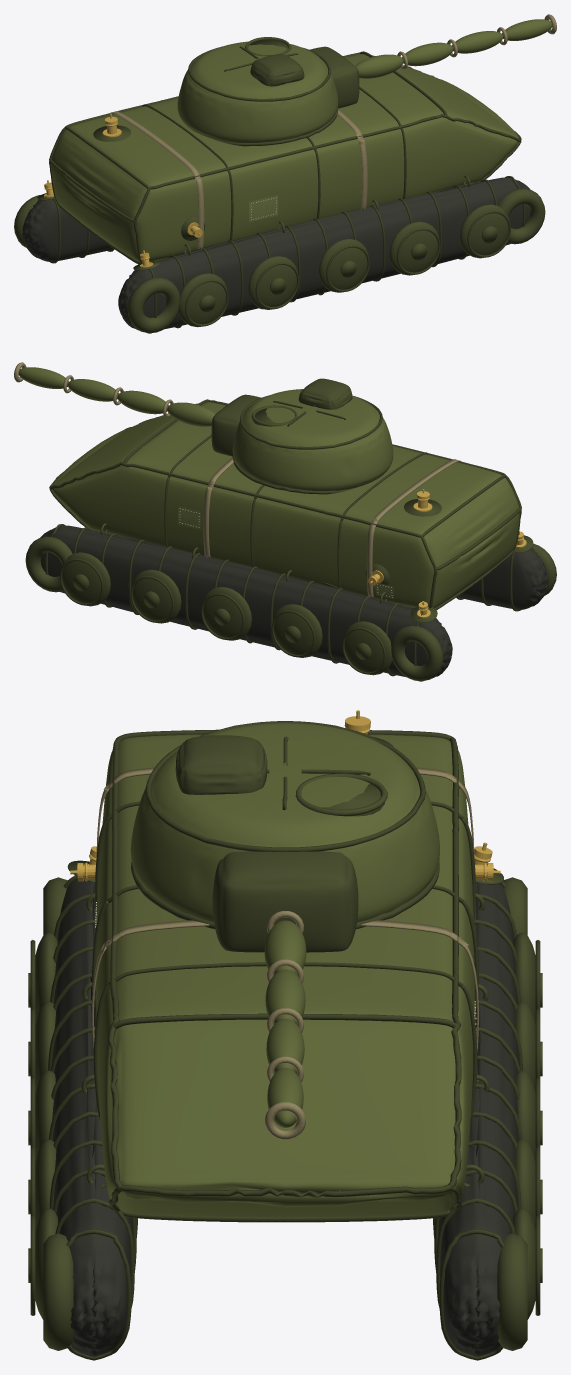
File: inflatable_tank.glb
3 views of the same model, one above another, from view 1: azimuth 30°, elevation 25°; view 2: azimuth 150°, elevation 25°; view 3: azimuth 270°, elevation 25° (orthographic). The views are drawn at different scales.
Visible parts, largest first — view 1: hull_bladder, track_bladder_L, wheel_cushions_L, turret_bladder, hull_seams, gun_segments, track_bladder_R, straps, mantlet_cushion, turret_seams, cupola_bladder, patch_L1 (+3 smaller); view 2: hull_bladder, track_bladder_R, wheel_cushions_R, turret_bladder, hull_seams, gun_segments, track_bladder_L, straps, turret_seams, mantlet_cushion, cupola_bladder, wheel_cushions_L (+3 smaller); view 3: hull_bladder, hull_seams, turret_bladder, track_bladder_L, track_bladder_R, mantlet_cushion, wheel_cushions_L, wheel_cushions_R, gun_segments, cupola_bladder, turret_seams, straps (+3 smaller).
Part boxes in pixels (x1=…): hull_bladder: x1=51, y1=54, x2=518, y2=261; track_bladder_L: x1=118, y1=177, x2=530, y2=330; wheel_cushions_L: x1=127, y1=188, x2=545, y2=333; turret_bladder: x1=177, y1=41, x2=338, y2=142; hull_seams: x1=49, y1=51, x2=525, y2=333; gun_segments: x1=355, y1=19, x2=552, y2=78; track_bladder_R: x1=22, y1=199, x2=112, y2=261; straps: x1=109, y1=110, x2=367, y2=249; mantlet_cushion: x1=310, y1=46, x2=359, y2=108; turret_seams: x1=188, y1=46, x2=338, y2=146; cupola_bladder: x1=250, y1=54, x2=304, y2=86; patch_L1: x1=249, y1=195, x2=278, y2=222; hull_bladder: x1=52, y1=402, x2=519, y2=607; track_bladder_R: x1=40, y1=525, x2=452, y2=678; wheel_cushions_R: x1=25, y1=536, x2=443, y2=681; turret_bladder: x1=232, y1=389, x2=393, y2=490; hull_seams: x1=45, y1=399, x2=521, y2=681; gun_segments: x1=18, y1=367, x2=215, y2=426; track_bladder_L: x1=458, y1=548, x2=548, y2=609; straps: x1=203, y1=458, x2=461, y2=596; turret_seams: x1=232, y1=396, x2=382, y2=494; mantlet_cushion: x1=211, y1=394, x2=260, y2=456; cupola_bladder: x1=298, y1=378, x2=352, y2=409; wheel_cushions_L: x1=532, y1=543, x2=556, y2=595; hull_bladder: x1=96, y1=734, x2=474, y2=1218; hull_seams: x1=30, y1=729, x2=540, y2=1360; turret_bladder: x1=130, y1=723, x2=439, y2=922; track_bladder_L: x1=52, y1=879, x2=132, y2=1356; track_bladder_R: x1=438, y1=882, x2=518, y2=1356; mantlet_cushion: x1=212, y1=851, x2=358, y2=952; wheel_cushions_L: x1=28, y1=877, x2=73, y2=1350; wheel_cushions_R: x1=497, y1=877, x2=542, y2=1350; gun_segments: x1=264, y1=920, x2=306, y2=1127; cupola_bladder: x1=175, y1=735, x2=267, y2=794; turret_seams: x1=131, y1=721, x2=439, y2=929; straps: x1=92, y1=767, x2=478, y2=1051.
Size of the model in its own units: 6.95 by 2.95 by 3.22.
